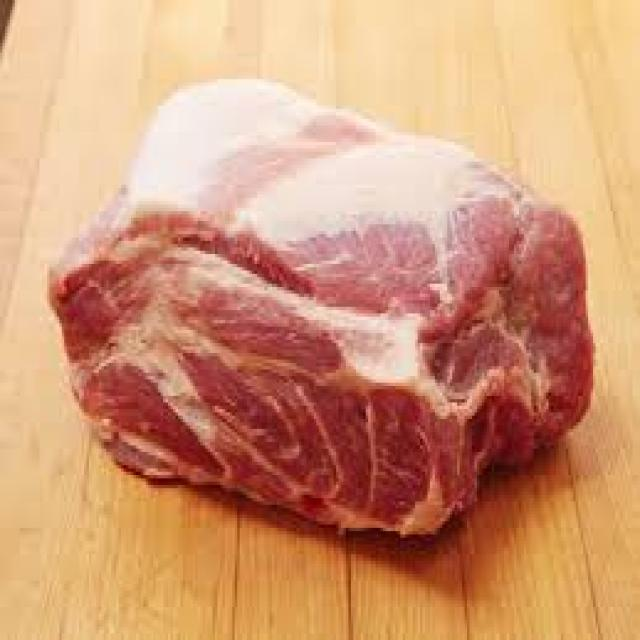Pork: (51, 80, 594, 535)
